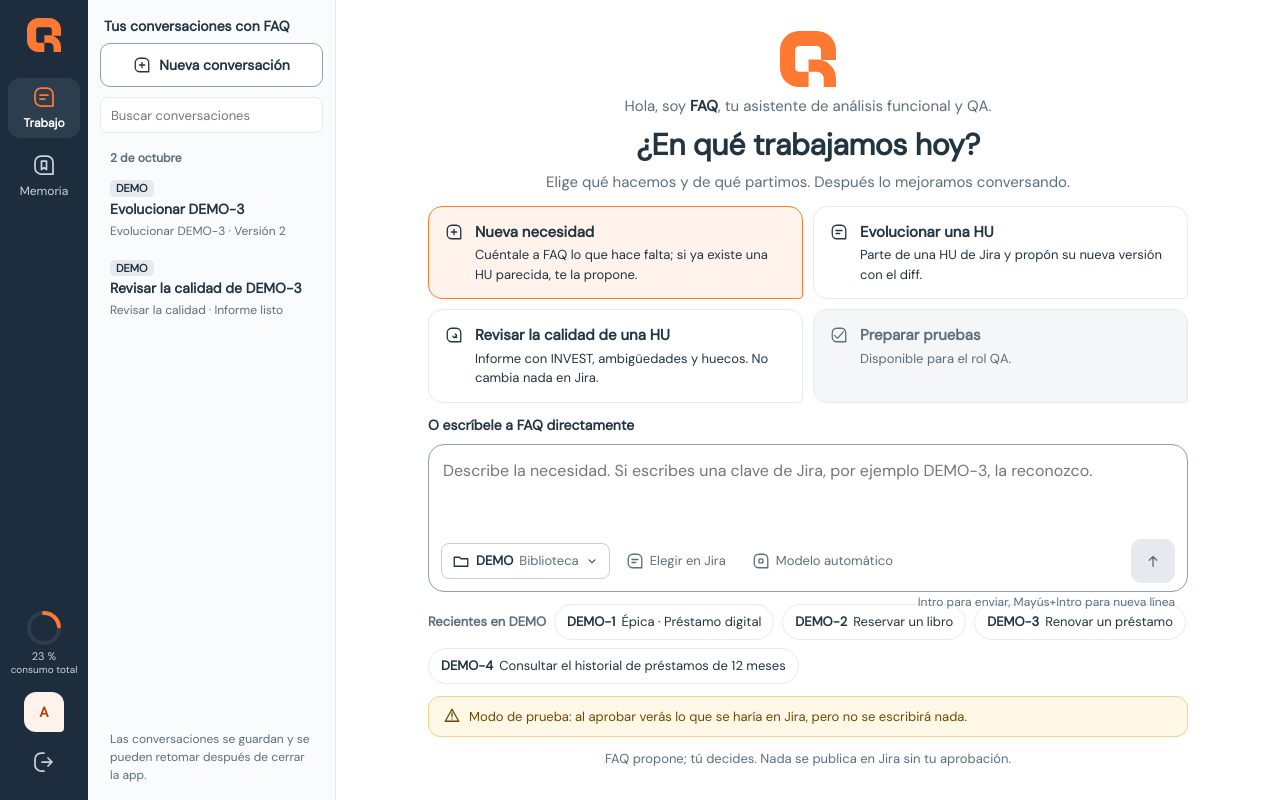
Test case: Iterar: huecos (UI.md §4.5, DESIGN-DECISIONS.md §4 bis) › plegar el panel en Iterar conserva la pestaña abierta al volver a mostrarlo
Click the button "DEMO Evolucionar DEMO-3 Evolucionar DEMO-3 · Versión 2". click: (212,210)
box: [100,171,323,248]
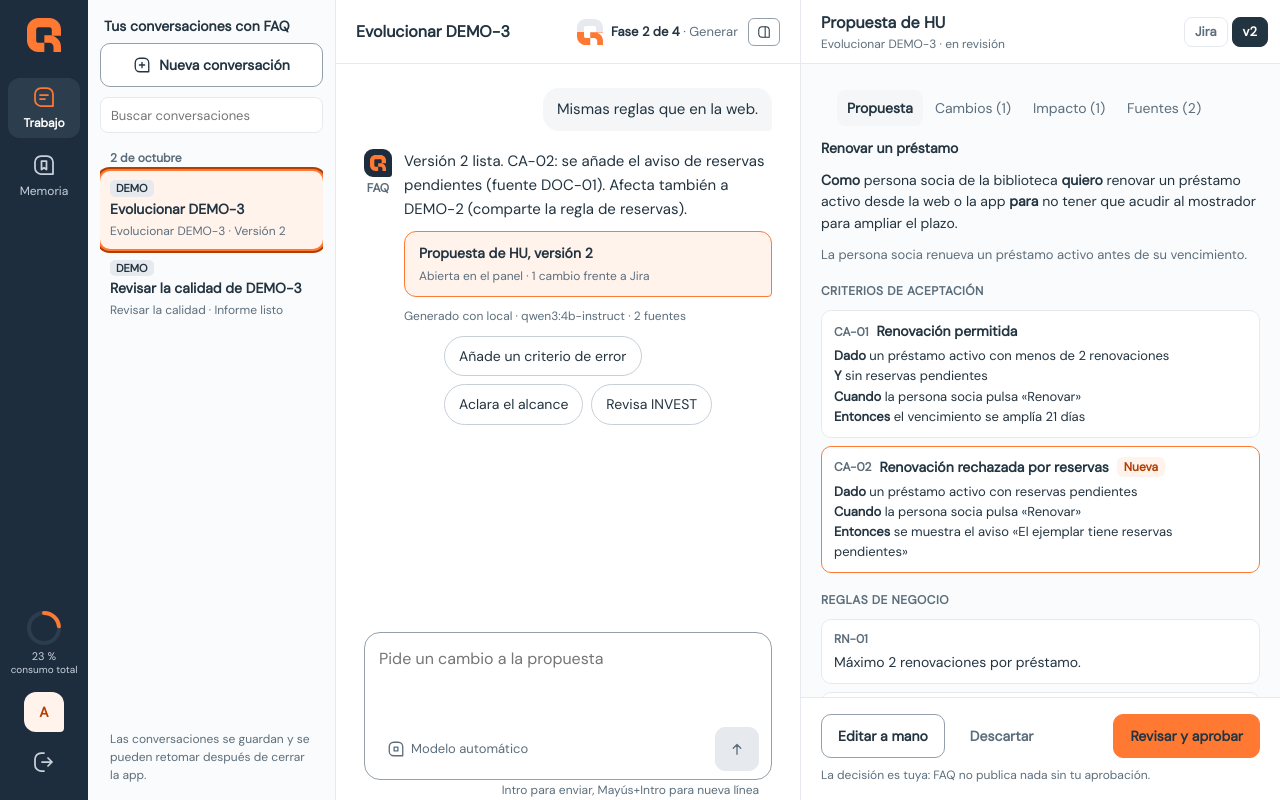
Click the tab "Impacto (1)". click: (1069,108)
box: [1023,90,1115,126]
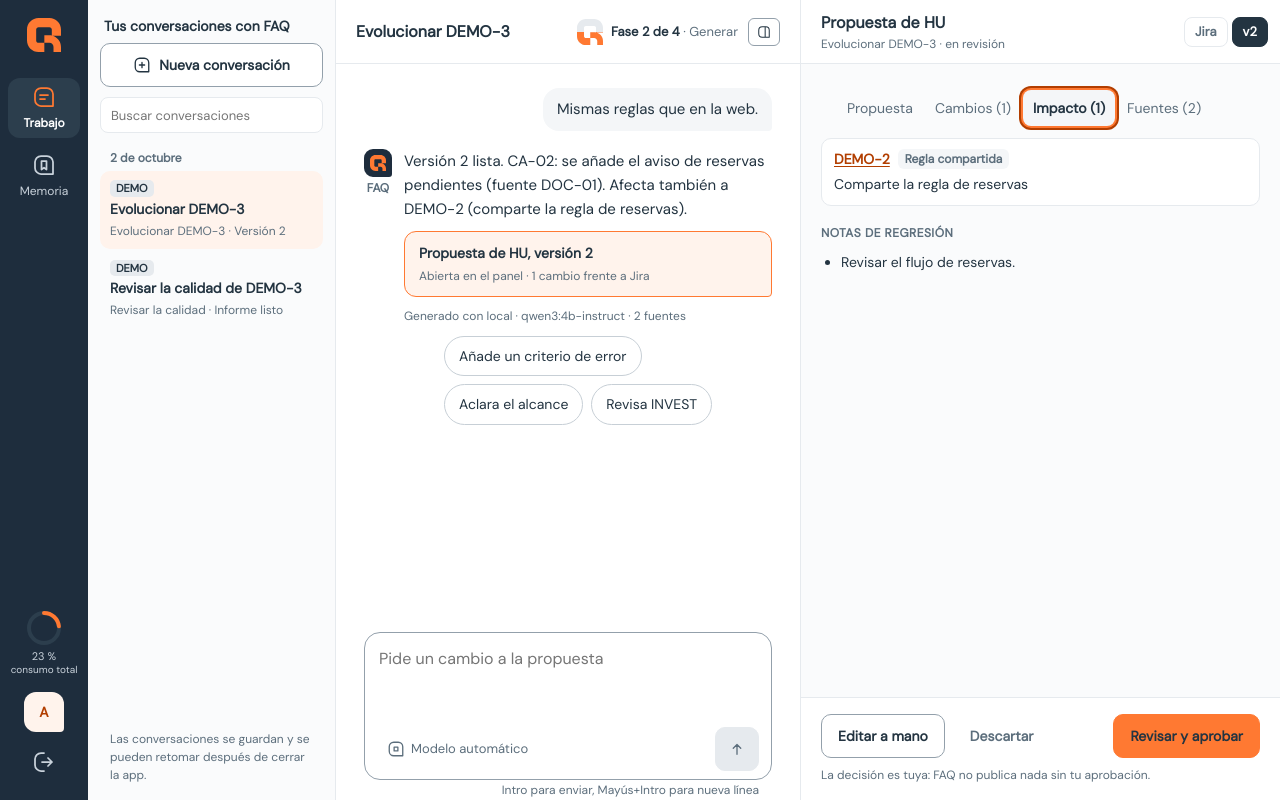
Click the button named "Ocultar el panel". click: (764,32)
box: [748,18,780,46]
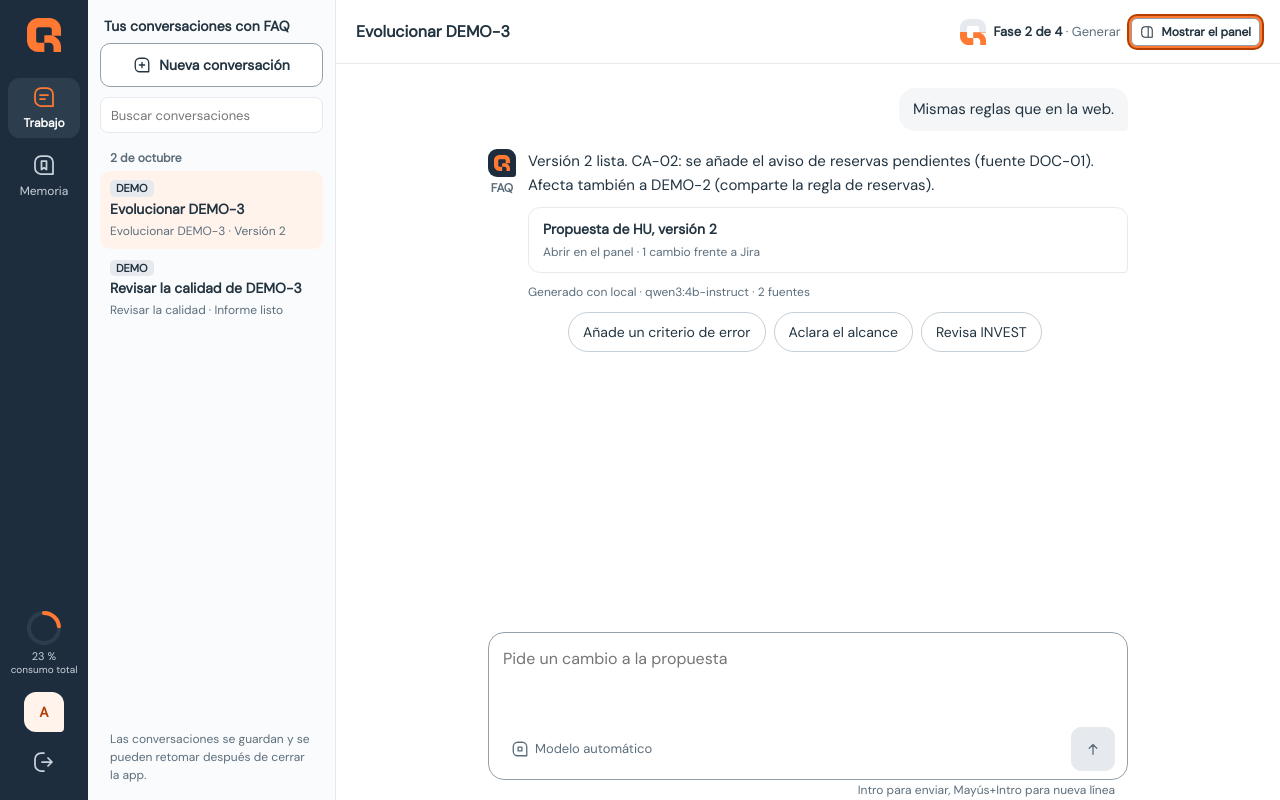
Click the button "Mostrar el panel". click: (1195,32)
box: [1131,18,1260,46]
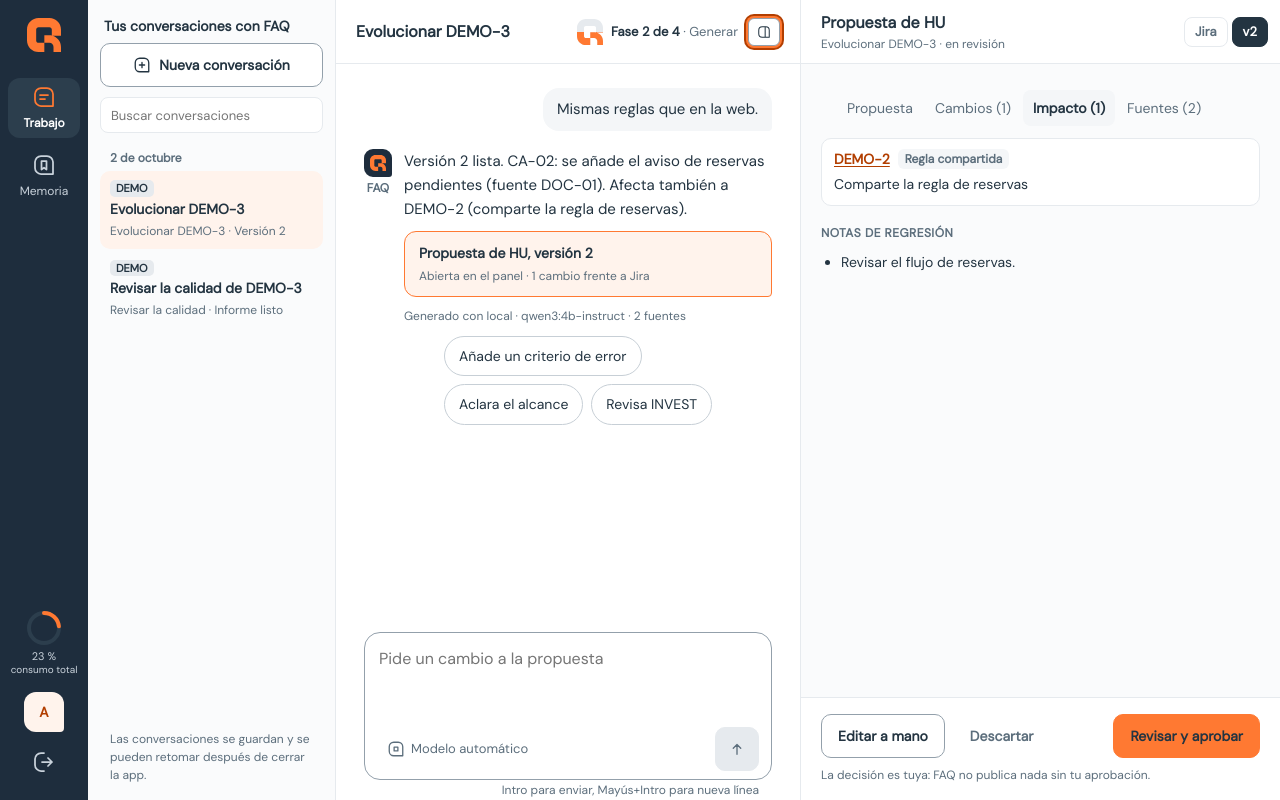
expect the panel shows "DEMO-2": met, box [834,150,890,168]
